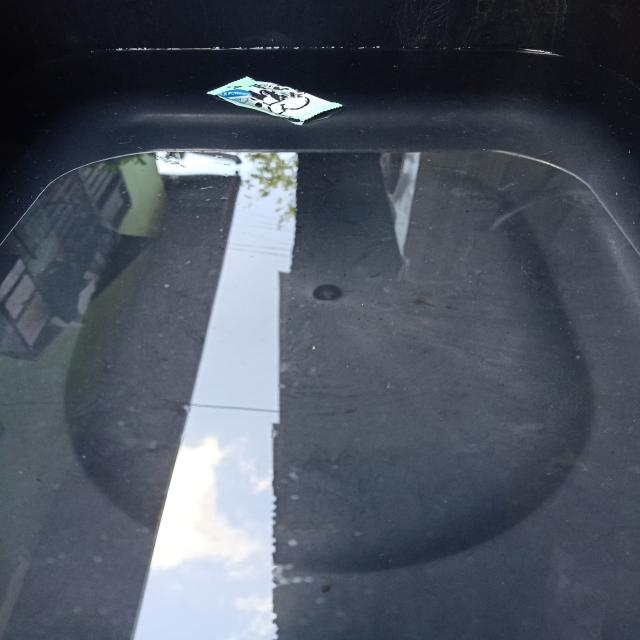Plastic Wrapper: (103, 49, 427, 151)
